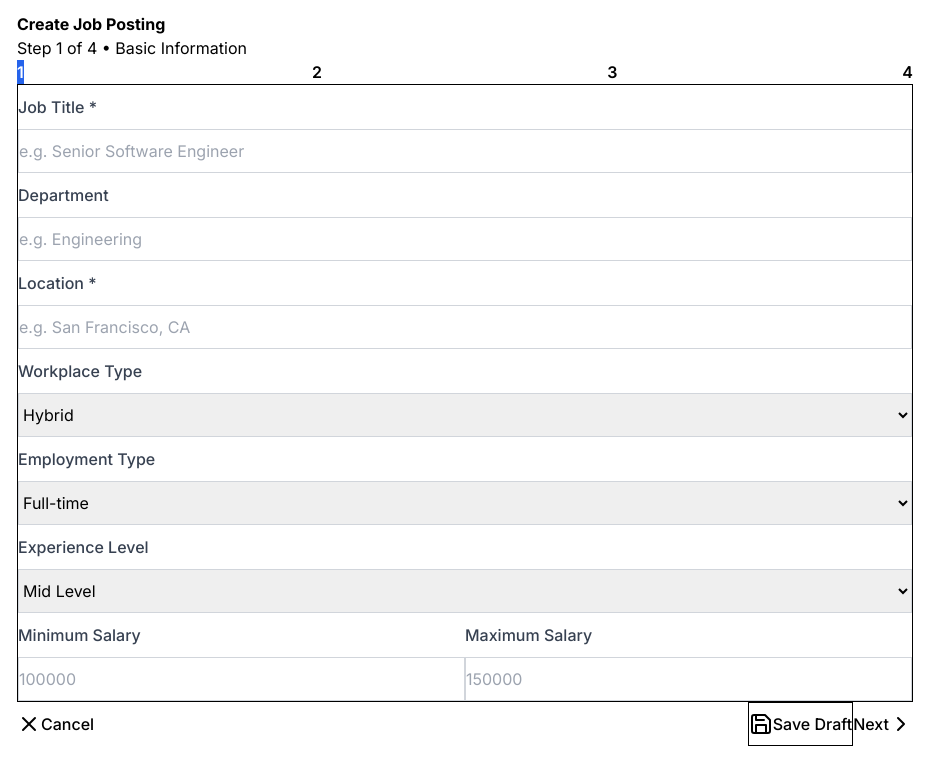
it: JobPosting Component › should allow progression when basic info is valid
// Fill required fields
Type "Software Engineer" into the field labelled "Job Title *" at (465,151), box [18, 129, 912, 173]
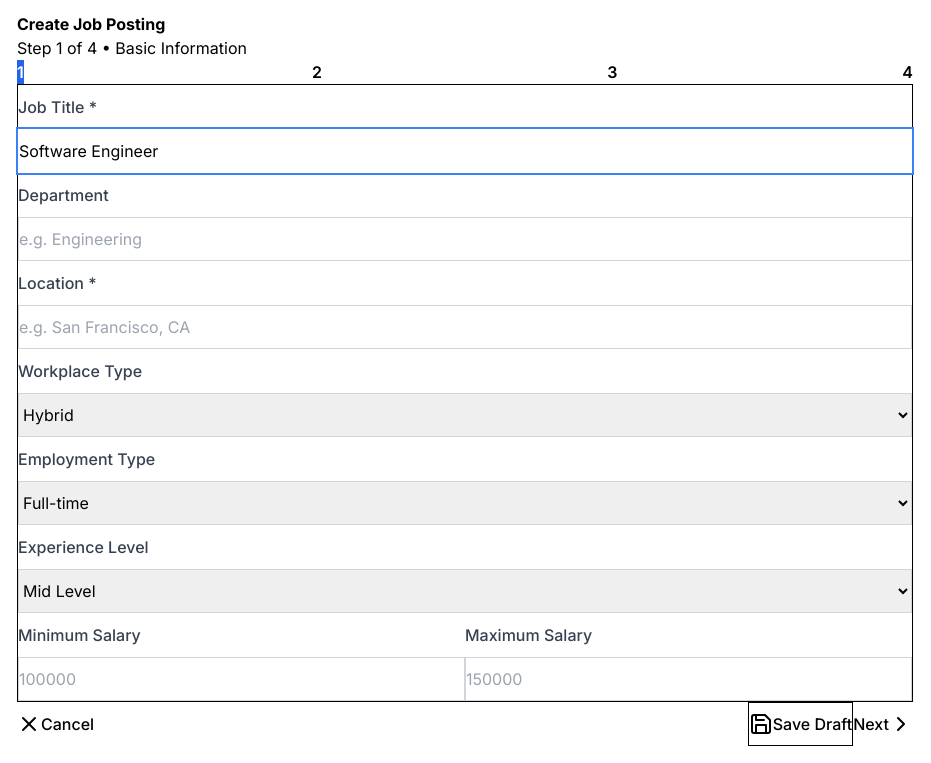
Type "San Francisco" into the field labelled "Location *" at (465,327), box [18, 305, 912, 349]
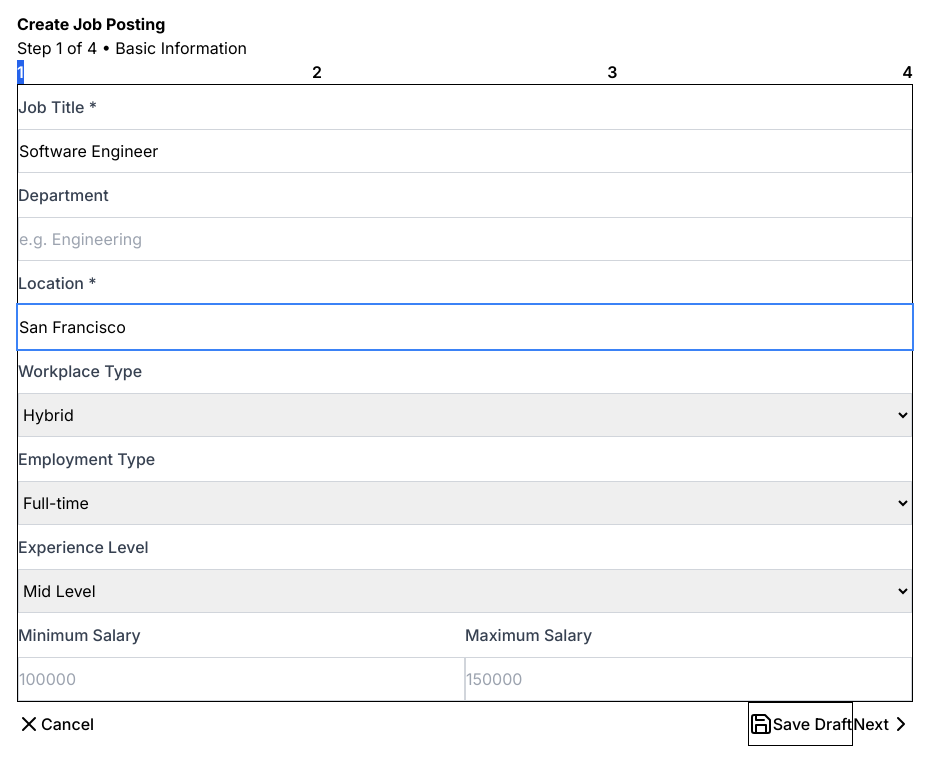
Click the button "Next" at (883,724), box [853, 702, 913, 746]
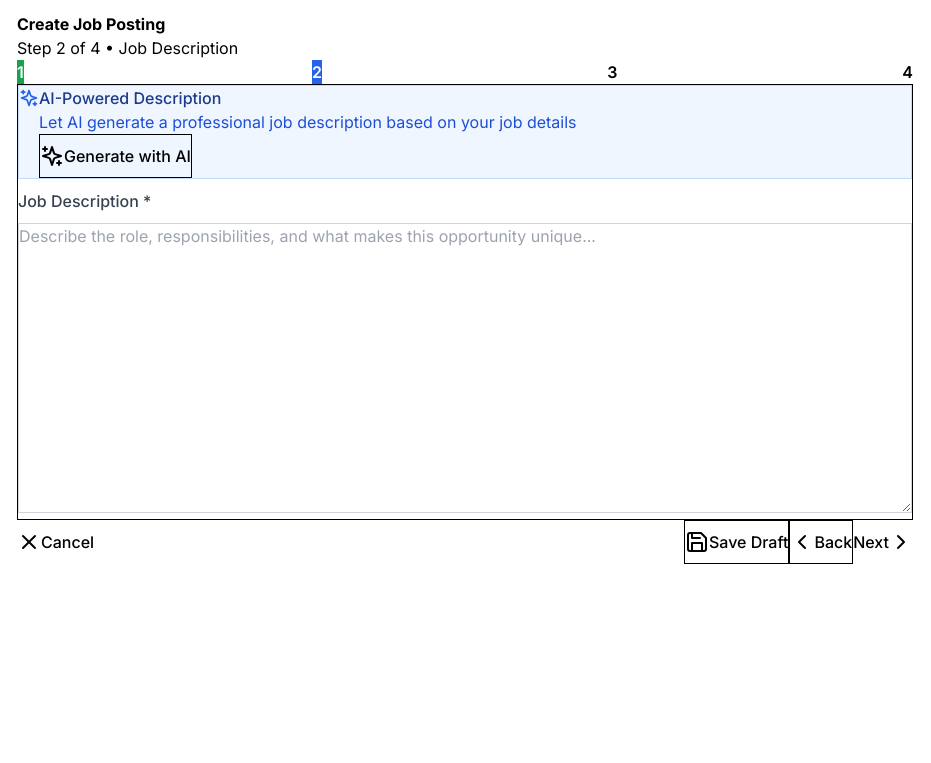
Check: the text "Step 2 of 4 • Job Description" is shown, box [17, 38, 238, 58]
